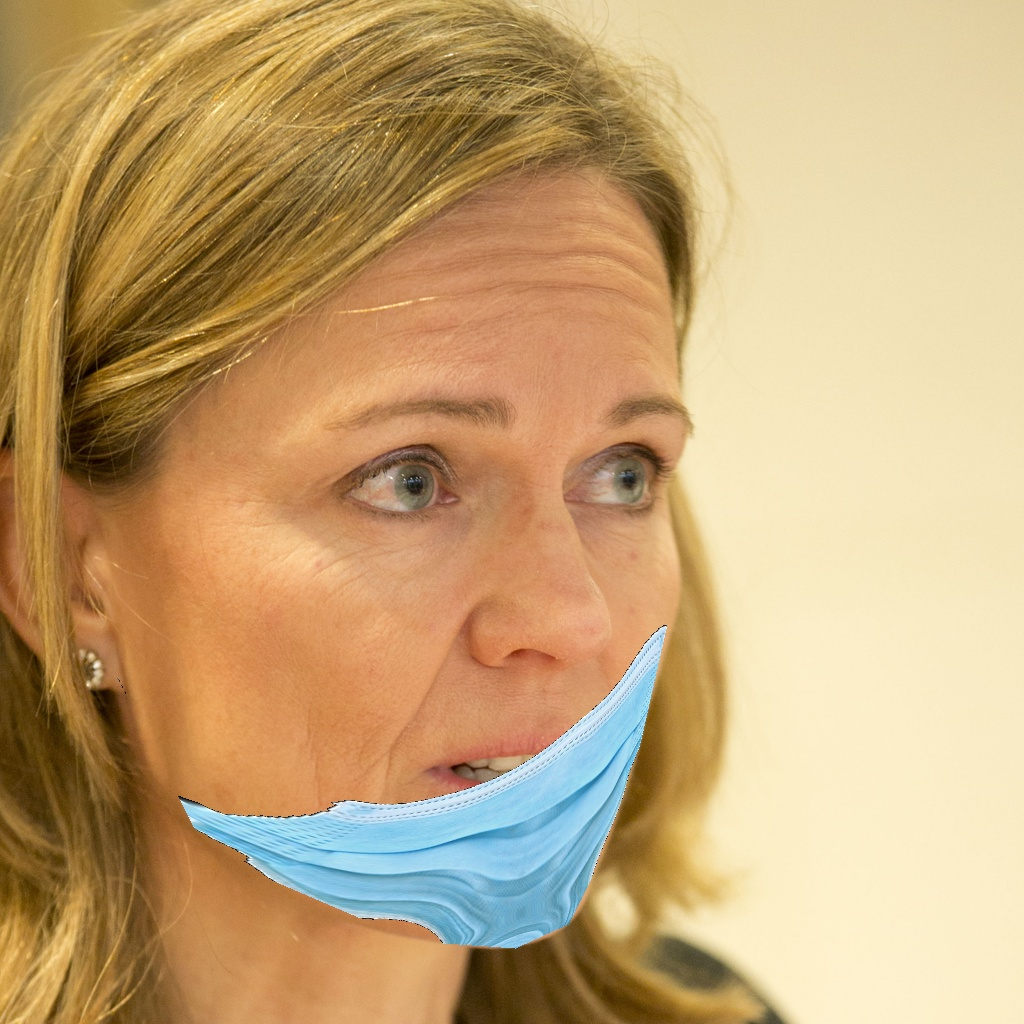mascarilla_mal_puesta: (123, 358, 706, 980)
